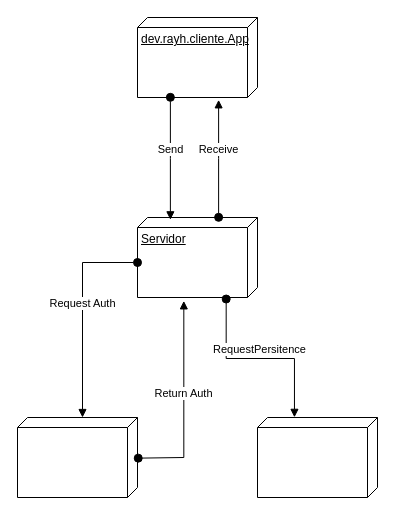
Some shapes in this 395 by 515 pixel diagram are drawn without their labels. Here are the shapes that lost their labels. From the top down, the box of each, then its label:
(16, 416, 138, 498): AuthService
(256, 416, 378, 498): ChatsPersist
